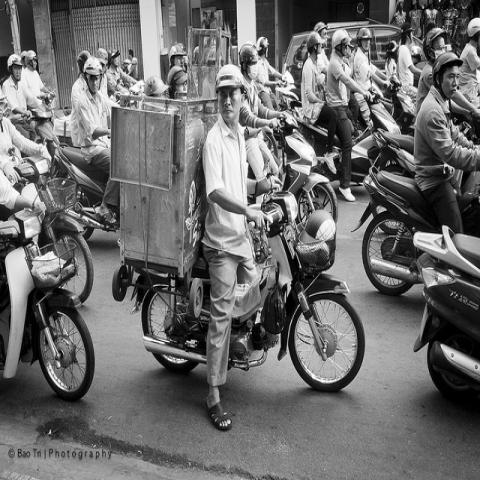car: (284, 21, 401, 83)
motorcycle: (110, 146, 366, 393), (0, 207, 95, 406), (8, 139, 94, 305), (410, 221, 480, 406), (354, 157, 441, 299), (288, 95, 402, 184), (269, 109, 339, 233), (367, 122, 477, 173), (52, 142, 112, 232), (385, 76, 416, 136), (30, 99, 61, 144), (459, 168, 479, 237)
